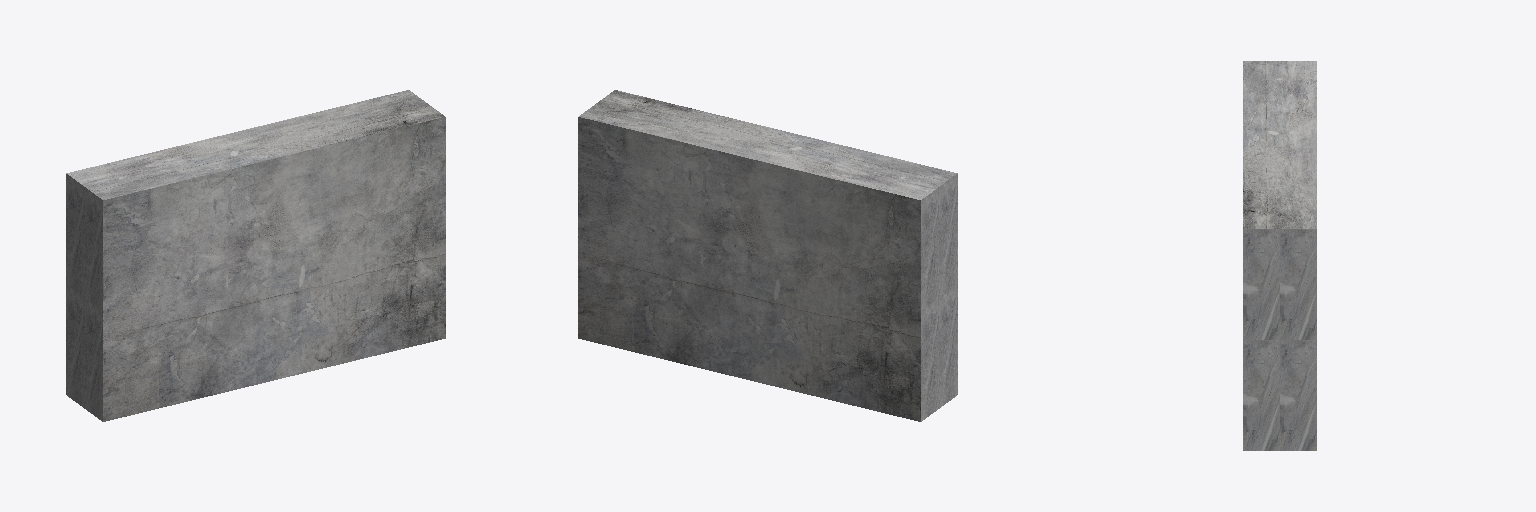
3 renders of one model, left to right at view 1: azimuth 30°, elevation 25°; view 2: azimuth 150°, elevation 25°; view 3: azimuth 270°, elevation 25°, orthographic.
Visible parts, largest first — view 1: front, ungrouped; view 2: back, ungrouped; view 3: ungrouped.
Part boxes in pixels (bbox=[...]): front: bbox=[103, 117, 445, 421]; ungrouped: bbox=[66, 90, 444, 421]; back: bbox=[578, 117, 920, 421]; ungrouped: bbox=[579, 90, 957, 421]; ungrouped: bbox=[1243, 61, 1316, 450].
Bounding box in the file's own units: 101 × 62.3 × 18.75.
1 materials, 1 textured.